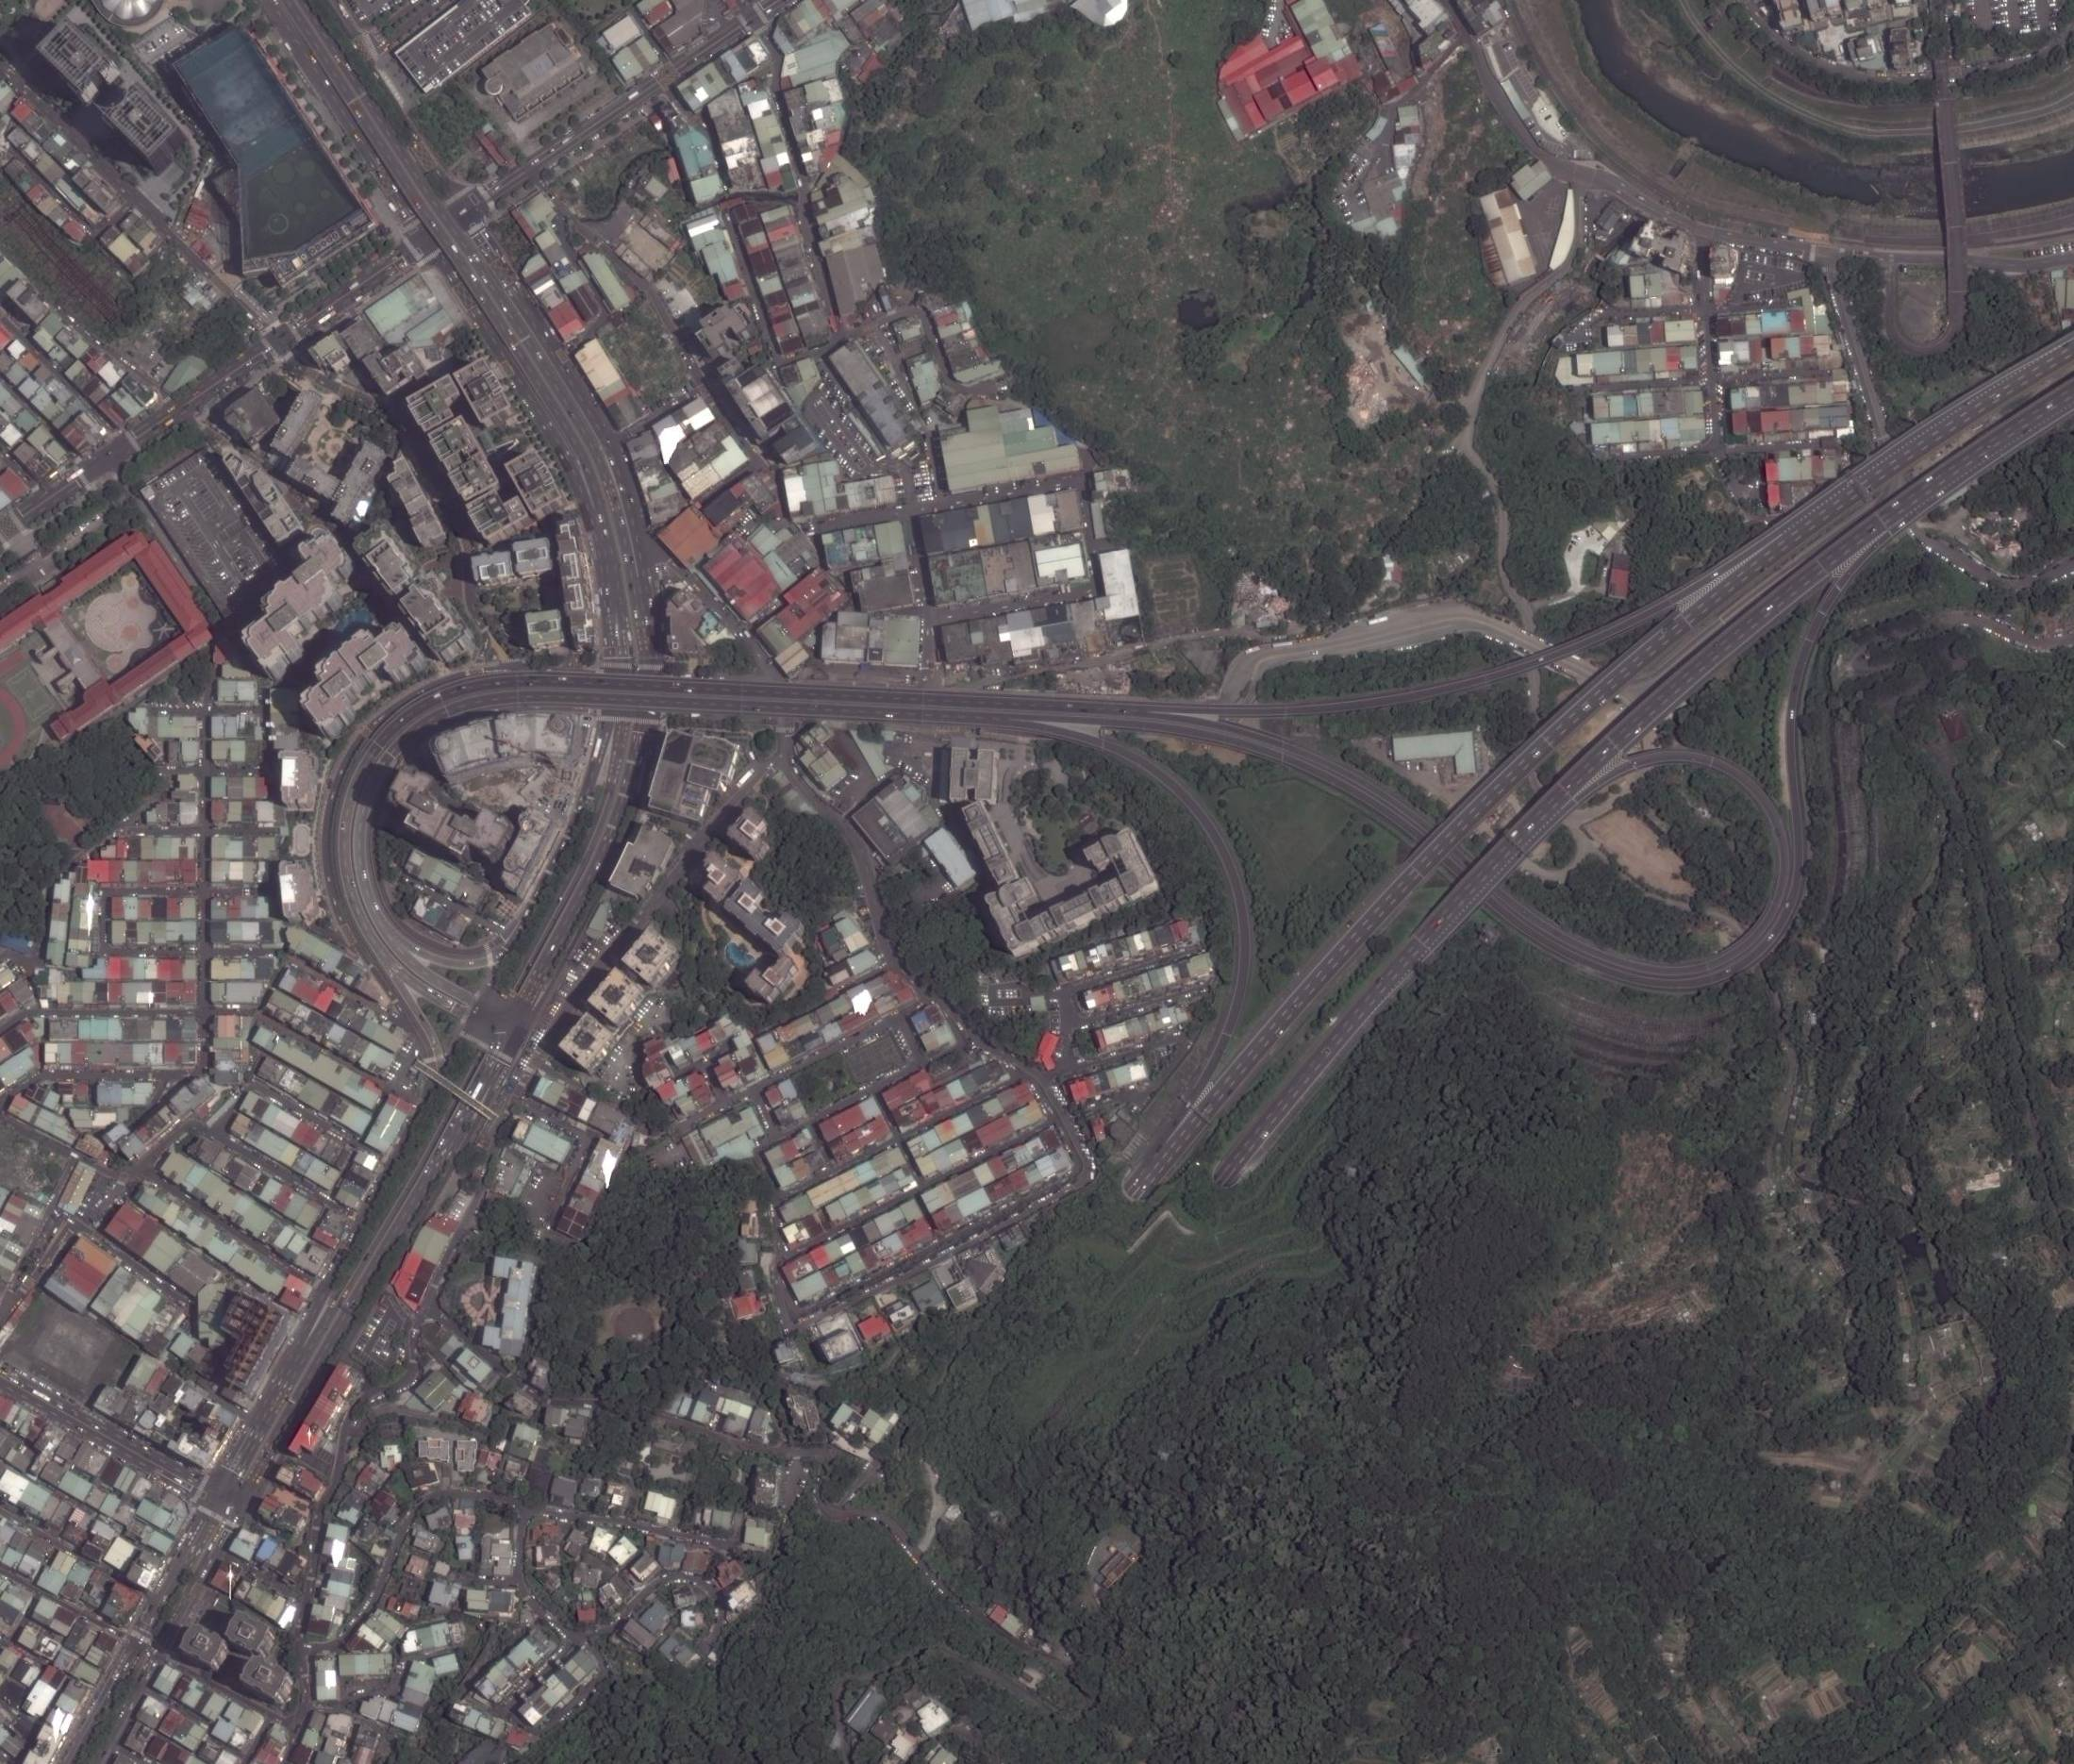bridge: (1932, 145, 1969, 222)
